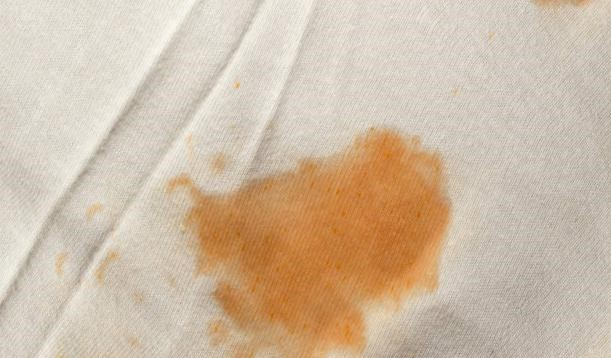stain: (166, 125, 453, 358), (530, 1, 595, 19), (93, 246, 121, 285), (46, 248, 68, 280), (82, 198, 106, 224)
